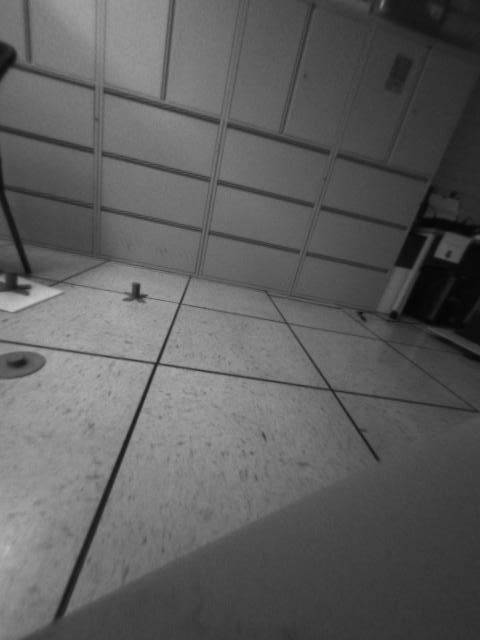X: (1, 266, 35, 297), (121, 280, 148, 307)
